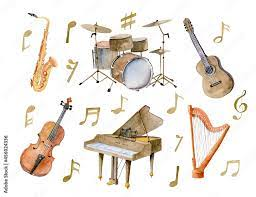Saxophone: (7, 2, 67, 106)
Violin: (75, 109, 170, 192), (16, 93, 83, 181)
